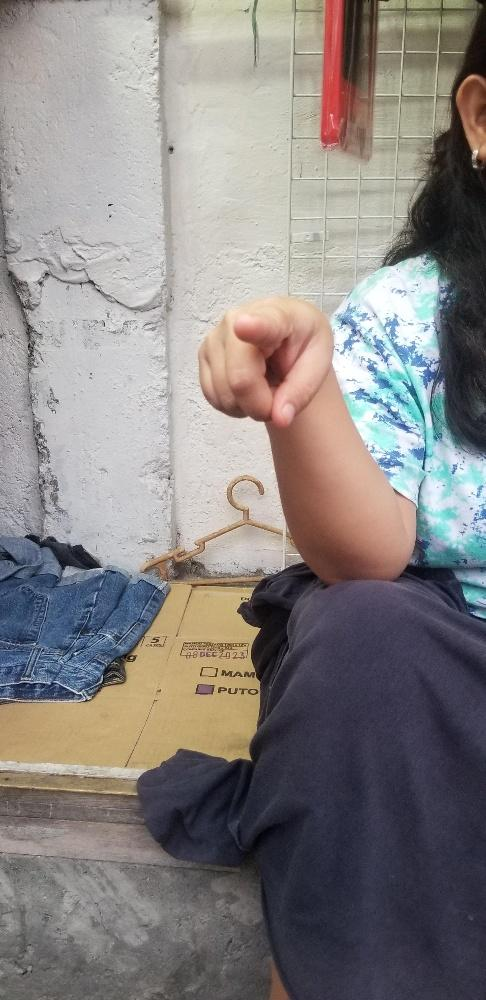z: (197, 295, 333, 423)
